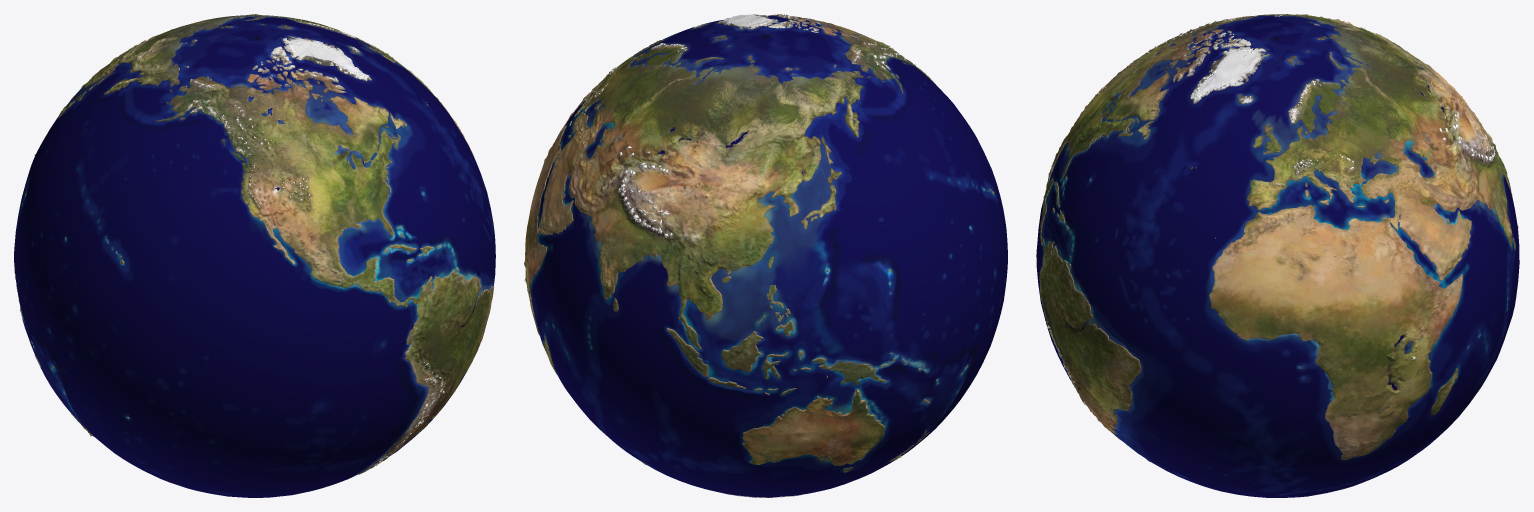
The model's file is low-poly_earth.glb.
The picture shows the model from 3 angles, left to right: view 1: azimuth 30°, elevation 25°; view 2: azimuth 150°, elevation 25°; view 3: azimuth 270°, elevation 25°; orthographic projection.
Visible parts, largest first — view 1: ocean-surface, Object002_Land_0 (×9), Object002.003_Snow_0; view 2: ocean-surface, Object002_Land_0 (×10), Object002.003_Snow_0; view 3: Object002_Land_0 (×9), ocean-surface, Object002.003_Snow_0.
Boxes of the visible parts, x1,y1,x2,y2 form: ocean-surface: (14, 16, 495, 497); Object002_Land_0 (×9): (14, 14, 493, 474); Object002.003_Snow_0: (186, 19, 445, 469); ocean-surface: (530, 15, 1007, 497); Object002_Land_0 (×10): (524, 14, 994, 497); Object002.003_Snow_0: (524, 14, 924, 281); Object002_Land_0 (×9): (1039, 14, 1518, 461); ocean-surface: (1036, 15, 1519, 497); Object002.003_Snow_0: (1046, 16, 1495, 417).
Bounding box in the file's own units: 8417 × 8444 × 8416.
Materials: 3 (2 with a texture image).
